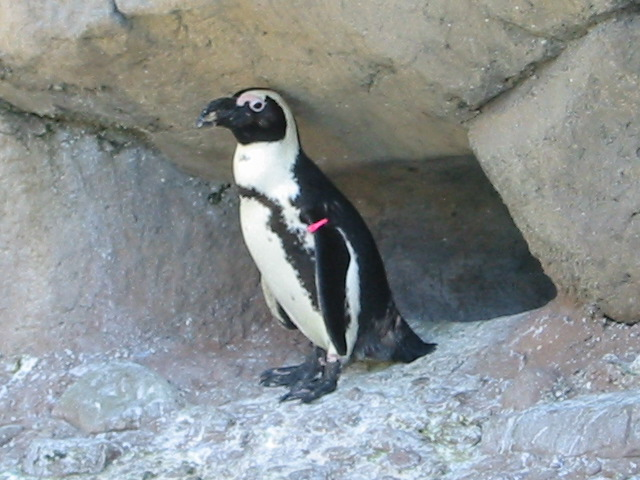penguin: (197, 86, 439, 409)
